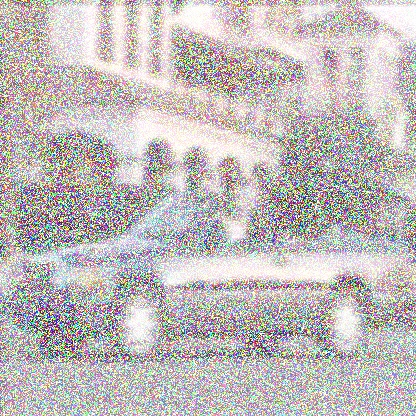Vehicle: (4, 169, 412, 384)
